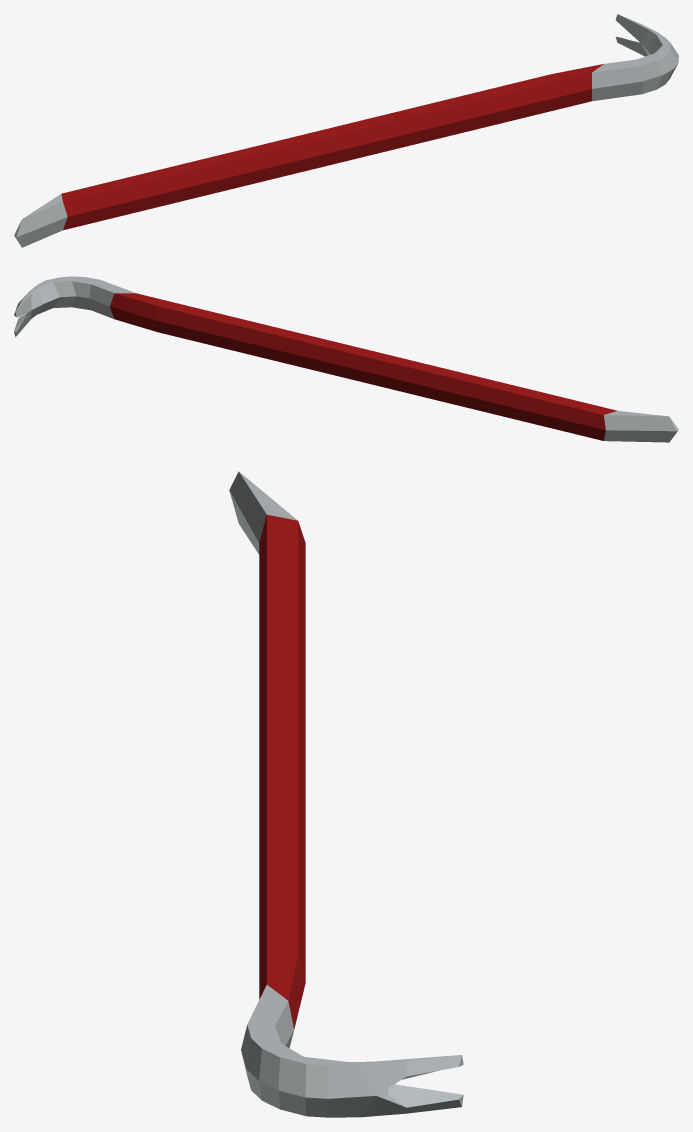
The model's file is Crowbar.glb.
3 views of the same model, one above another, from view 1: azimuth 30°, elevation 25°; view 2: azimuth 150°, elevation 25°; view 3: azimuth 270°, elevation 25° (orthographic). The views are drawn at different scales.
Visible parts, largest first — view 1: Crowbar; view 2: Crowbar; view 3: Crowbar.
Boxes of the visible parts, x1,y1,x2,y2 form: Crowbar: [14, 14, 678, 247]; Crowbar: [14, 276, 678, 442]; Crowbar: [229, 471, 463, 1117].
Bounding box in the file's own units: 1 × 0.04 × 0.1628.
